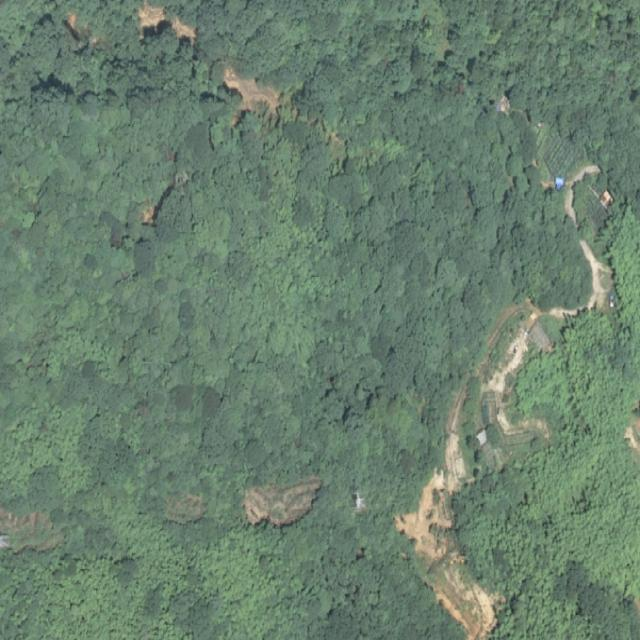landslide: (244, 478, 322, 527), (223, 67, 281, 124), (138, 0, 196, 44)
